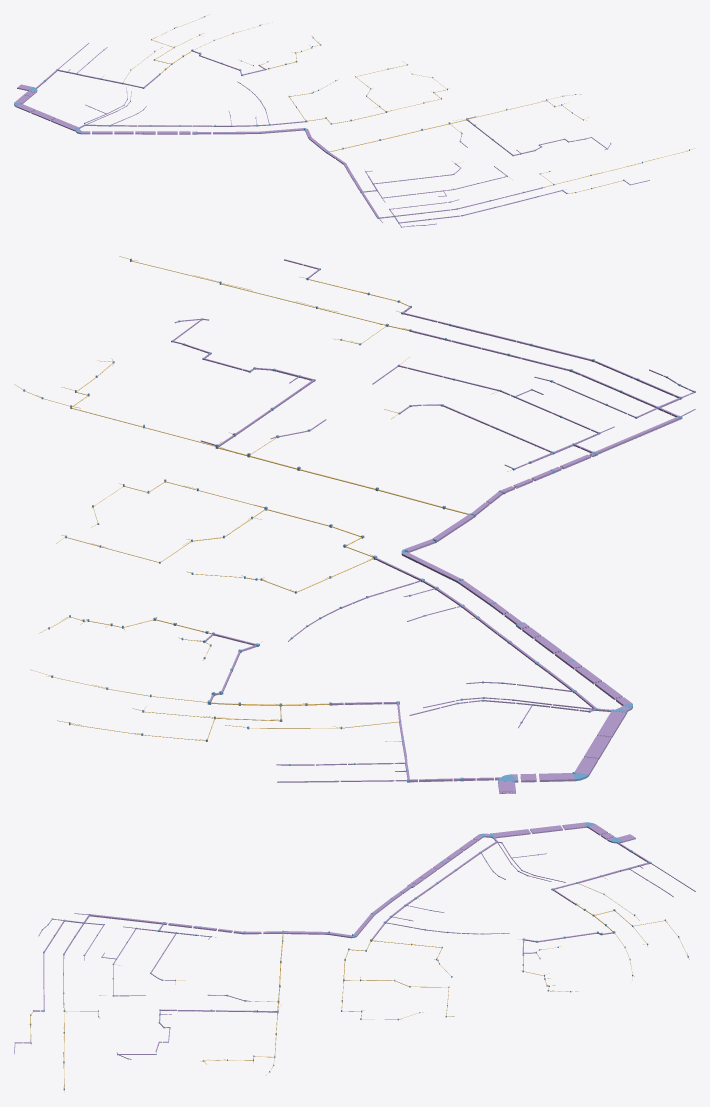
Rendered from 500125-CSSP001-780-XX-MD-ST-000334.glb.
3 views of the same model, one above another, from view 1: azimuth 30°, elevation 25°; view 2: azimuth 150°, elevation 25°; view 3: azimuth 270°, elevation 25° (orthographic). The views are drawn at different scales.
Bounding box in the file's own units: 1079 × 9.49 × 1138.
